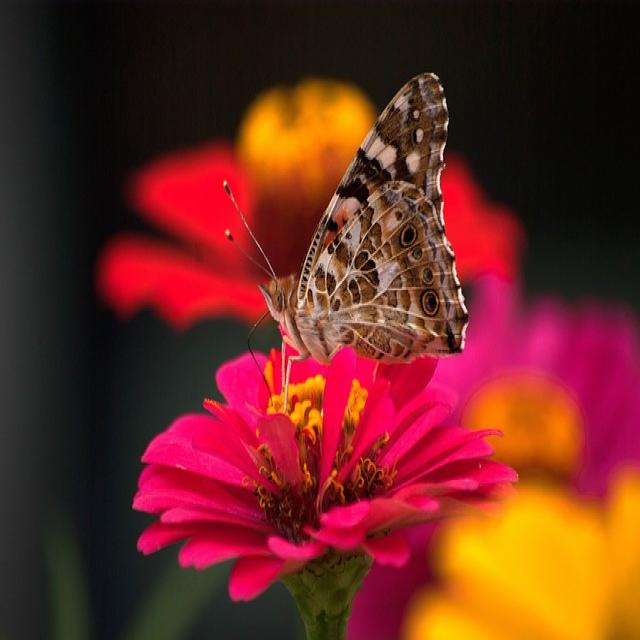butterfly: (261, 73, 468, 365)
